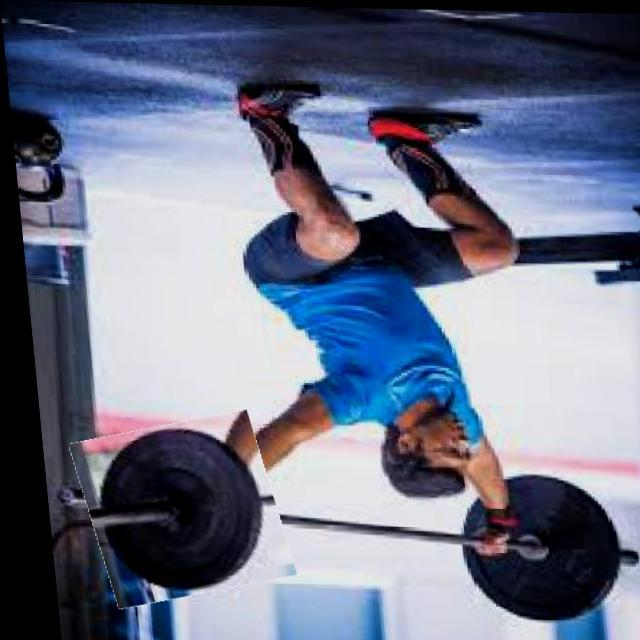barbell: (66, 415, 281, 604)
